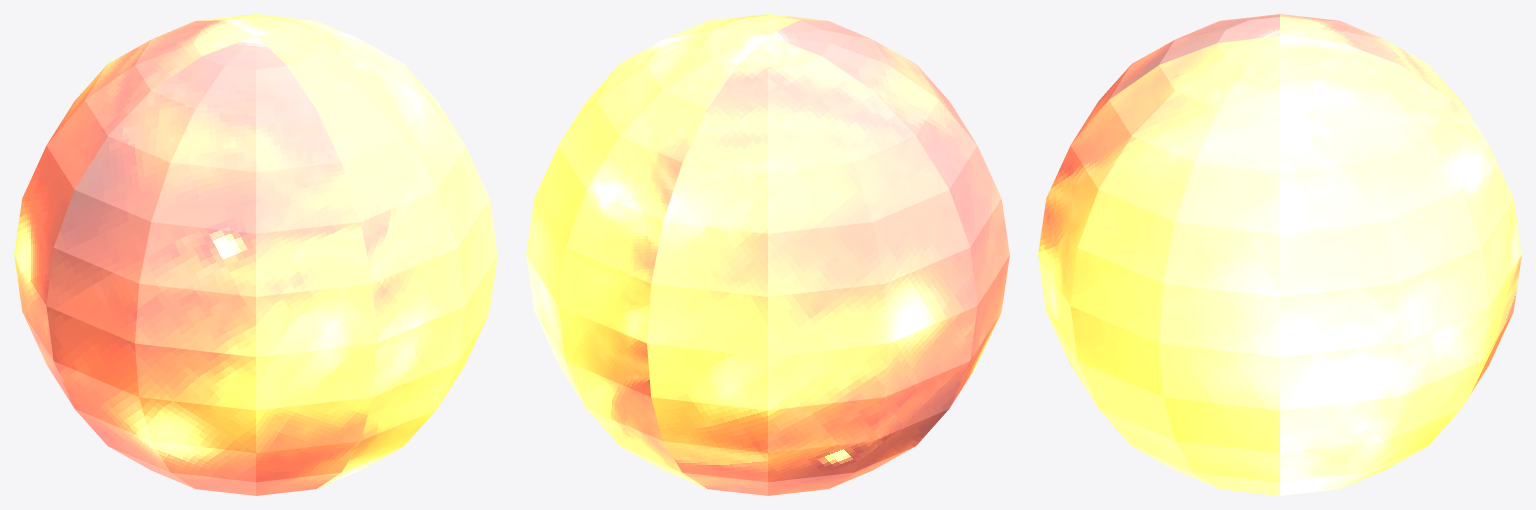
File: fireball.glb
The picture shows the model from 3 angles, left to right: view 1: azimuth 30°, elevation 25°; view 2: azimuth 150°, elevation 25°; view 3: azimuth 270°, elevation 25°; orthographic projection.
Parts seen in each view (by area): view 1: Sphere; view 2: Sphere; view 3: Sphere.
Part boxes in pixels (x1=…): Sphere: x1=14, y1=14, x2=497, y2=495; Sphere: x1=526, y1=14, x2=1009, y2=495; Sphere: x1=1038, y1=14, x2=1521, y2=495.
Size of the model in its own units: 2 by 2 by 2.
